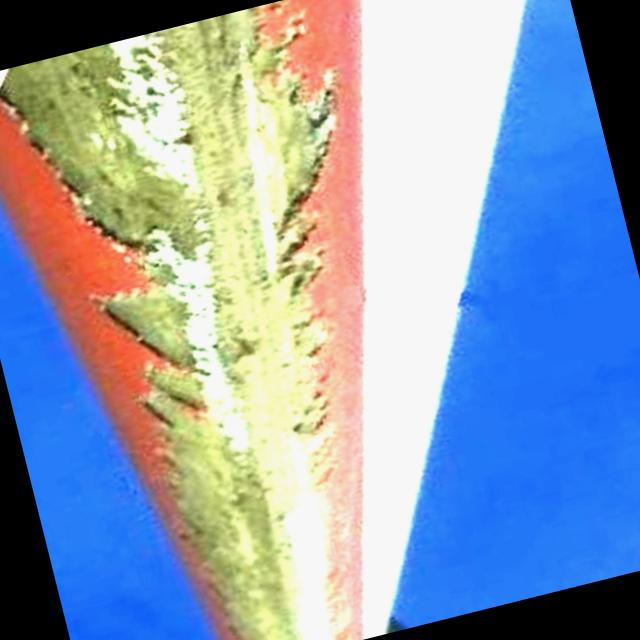corrosion: (21, 5, 434, 640)
